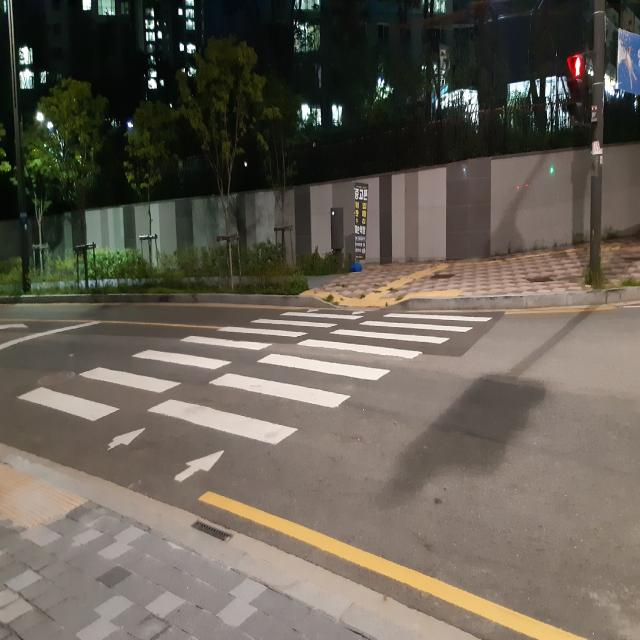빨간불: (564, 51, 588, 122)
횡단보도: (21, 306, 494, 482)
